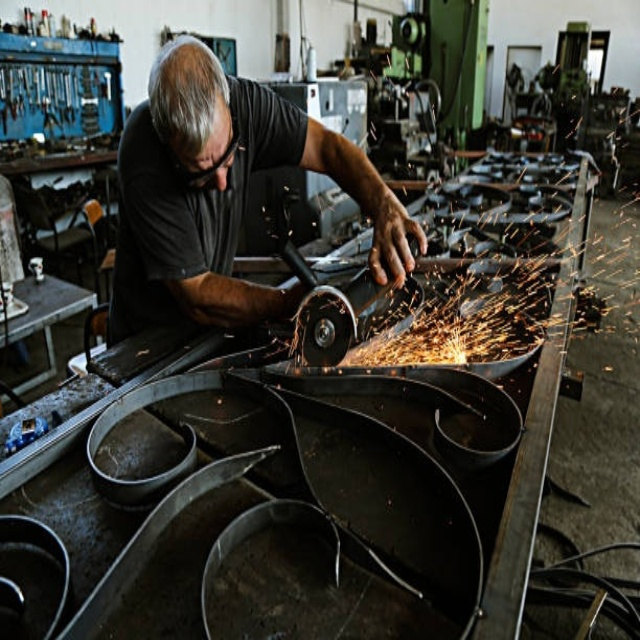Gafas: (178, 123, 241, 187)
Sin_guantes: (364, 192, 427, 289)
